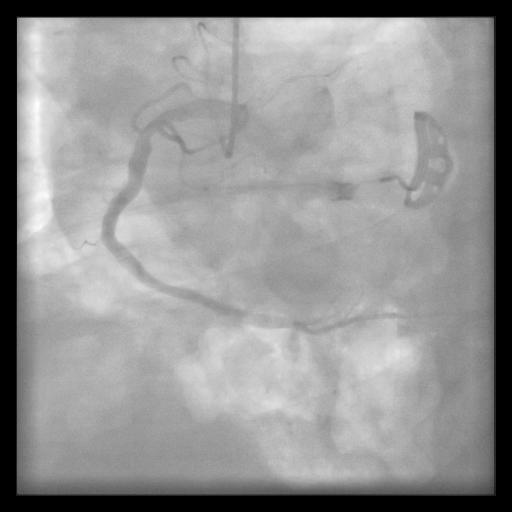Stenosis: (140, 110, 172, 131)
